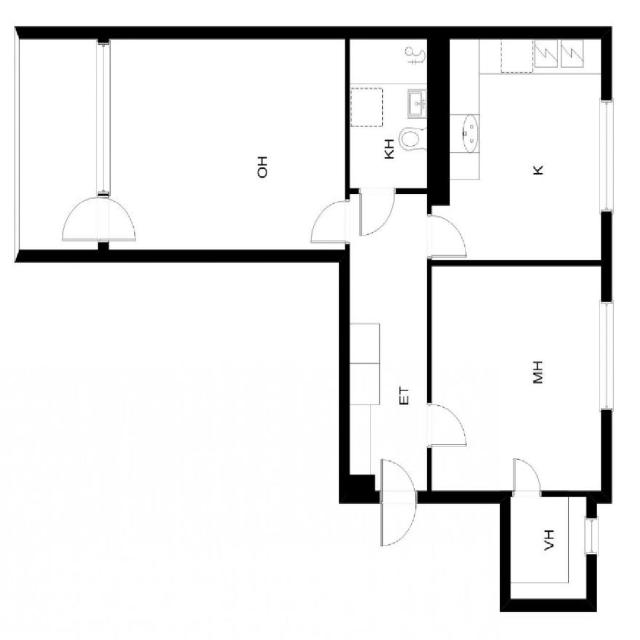door: (373, 452, 420, 550), (53, 193, 140, 242), (421, 398, 474, 454), (421, 206, 472, 259), (352, 185, 401, 237), (304, 195, 352, 245), (506, 453, 546, 500)
window: (82, 33, 122, 197), (592, 292, 621, 414), (594, 92, 619, 221), (582, 515, 602, 560)
zone: (108, 37, 348, 260), (423, 261, 610, 497), (433, 48, 610, 268), (347, 36, 431, 190), (508, 492, 592, 602)
